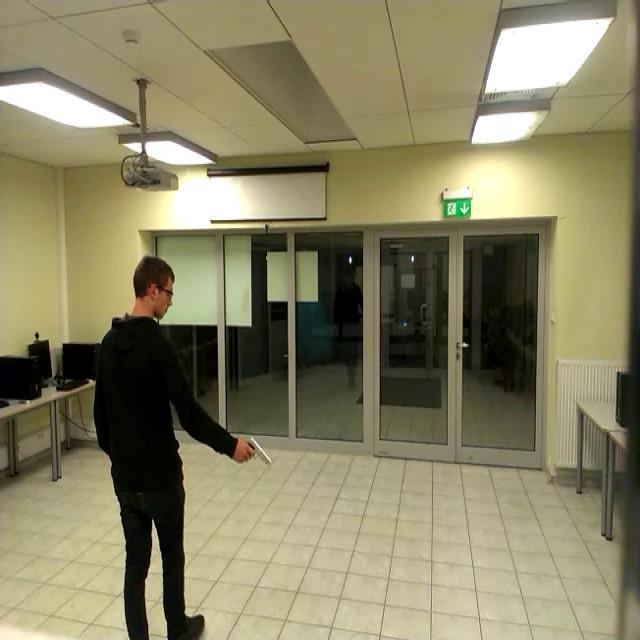Gun: (236, 423, 276, 472)
